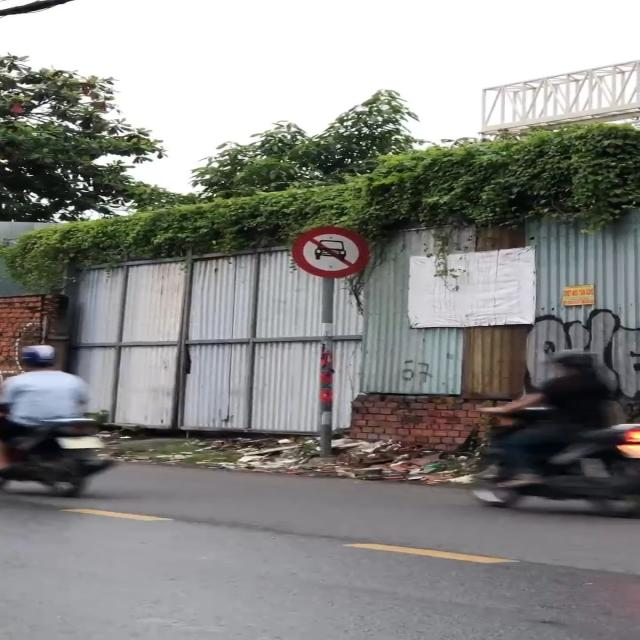Bien bao cam xe oto: (287, 223, 374, 280)
